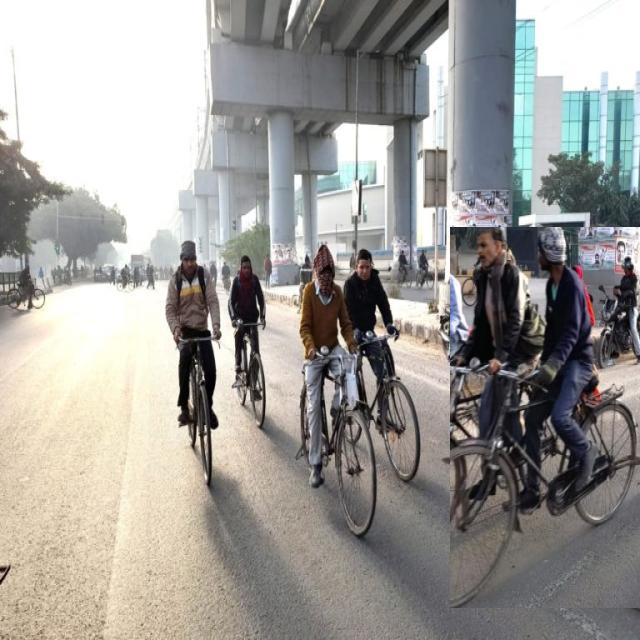bicycle: (450, 227, 640, 608), (300, 246, 376, 536), (344, 249, 420, 481), (165, 240, 221, 484), (229, 255, 266, 427)
motorcycle: (439, 257, 491, 367)
